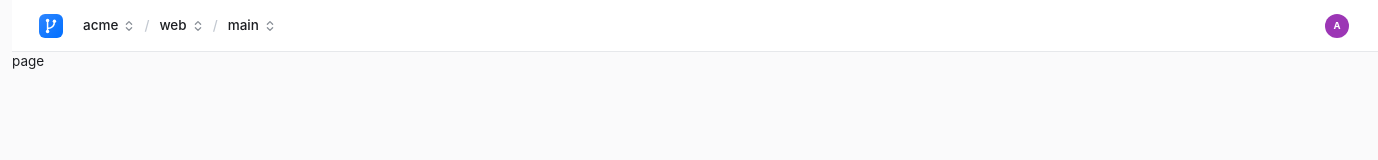
Frame › lists the queues of the repository on the page of a queue
Click the button named "Queue: main".
click(251, 26)  # box [220, 12, 283, 40]
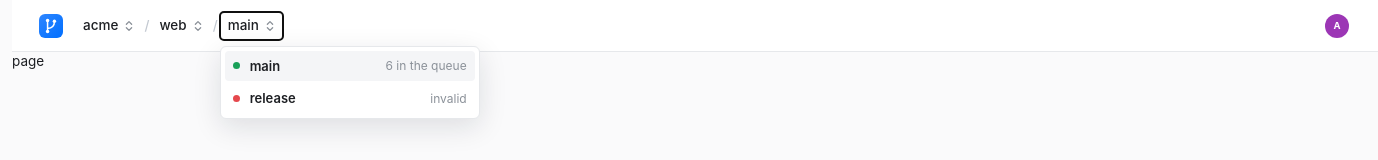
expect the link "release invalid" is shown: met, box [233, 90, 467, 106]
